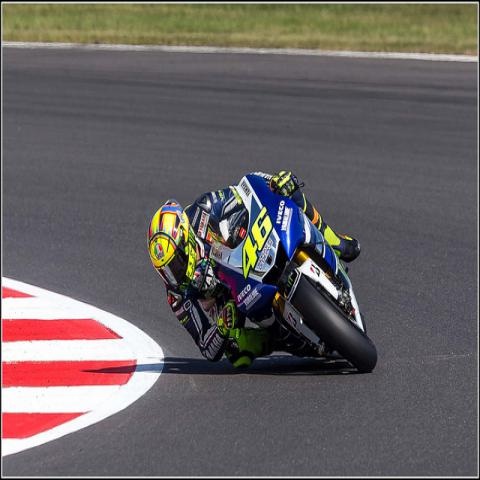motorcycle: (217, 174, 378, 375)
